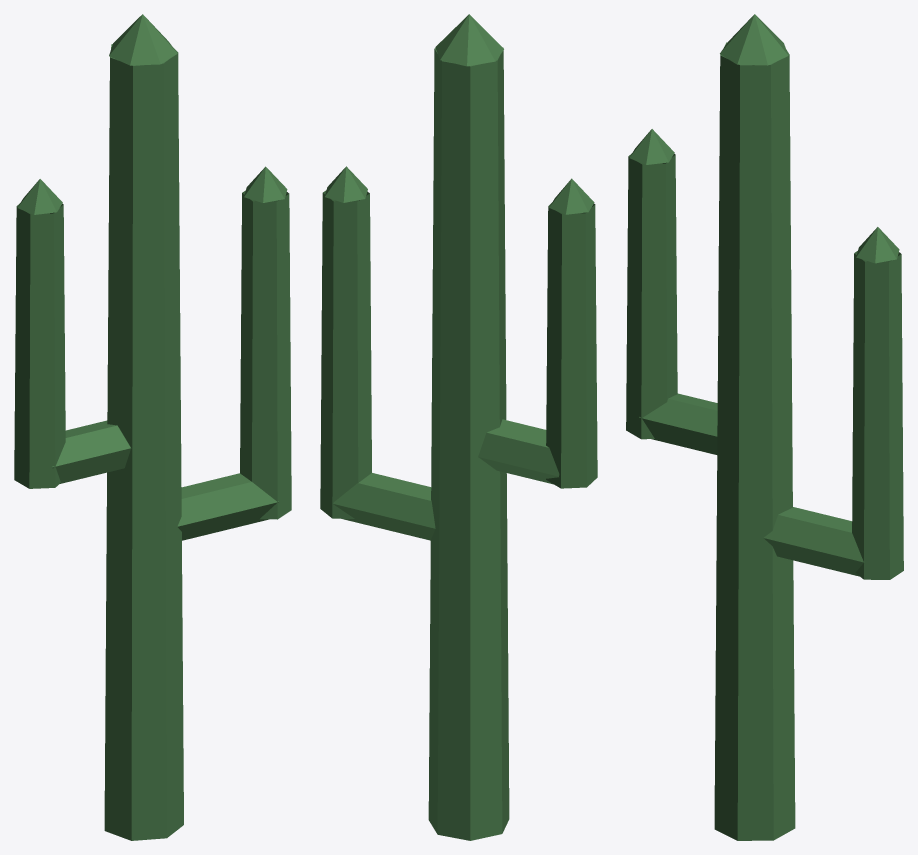
File: cactus_saguaro.glb
3 views of the same model, side by side, from view 1: azimuth 30°, elevation 25°; view 2: azimuth 150°, elevation 25°; view 3: azimuth 330°, elevation 25° (orthographic).
Visible parts, largest first — view 1: cactus_saguaro; view 2: cactus_saguaro; view 3: cactus_saguaro.
Boxes of the visible parts, <box> form: cactus_saguaro: <box>14,14,291,840</box>; cactus_saguaro: <box>320,14,597,840</box>; cactus_saguaro: <box>626,14,903,840</box>.
Bounding box in the file's own units: 2.6 × 7.55 × 0.6774.
1 material, 1 textured.
